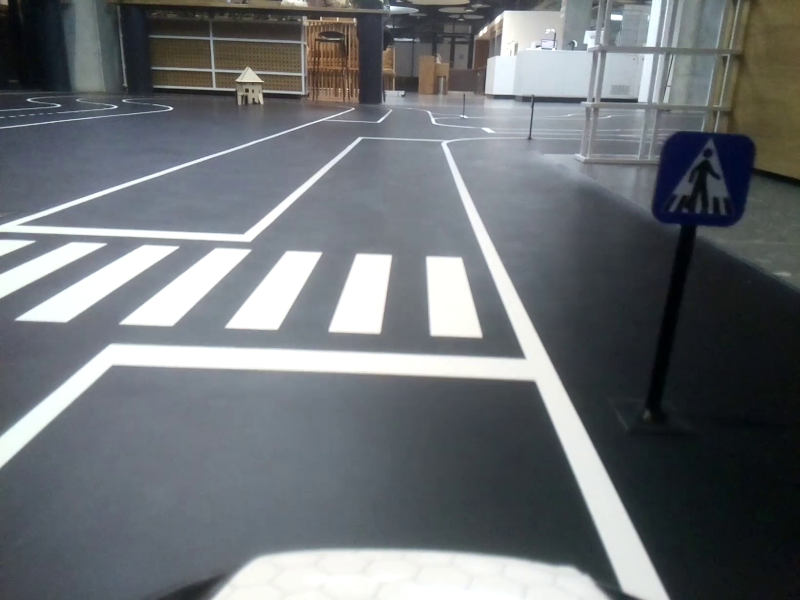pedestrians: (655, 132, 749, 223)
